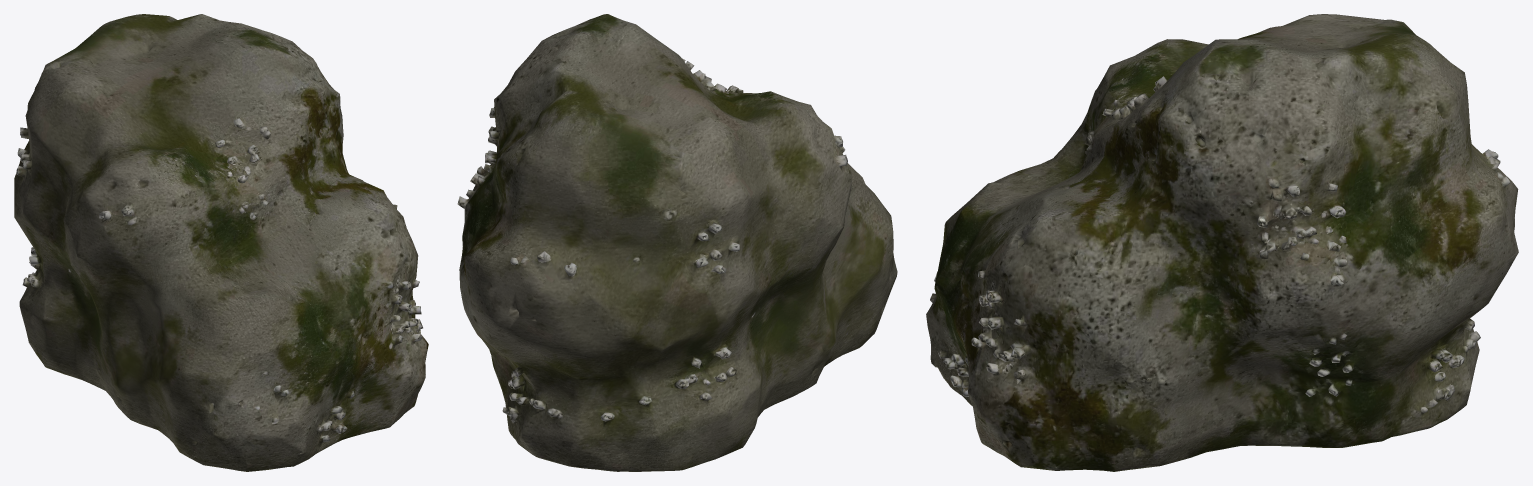
The model's file is rock.glb.
3 views of the same model, side by side, from view 1: azimuth 30°, elevation 25°; view 2: azimuth 150°, elevation 25°; view 3: azimuth 270°, elevation 25° (orthographic). The views are drawn at different scales.
Visible parts, largest first — view 1: tripo_node_a744c367-d257-4d4f-af06-b8c511e82345; view 2: tripo_node_a744c367-d257-4d4f-af06-b8c511e82345; view 3: tripo_node_a744c367-d257-4d4f-af06-b8c511e82345.
Boxes of the visible parts, left/top/right/bottom form: tripo_node_a744c367-d257-4d4f-af06-b8c511e82345: left=14, top=14, right=428, bottom=471; tripo_node_a744c367-d257-4d4f-af06-b8c511e82345: left=457, top=14, right=897, bottom=471; tripo_node_a744c367-d257-4d4f-af06-b8c511e82345: left=926, top=14, right=1518, bottom=471.
Size of the model in its own units: 0.6807 by 0.7256 by 1.
1 material, 1 textured.
